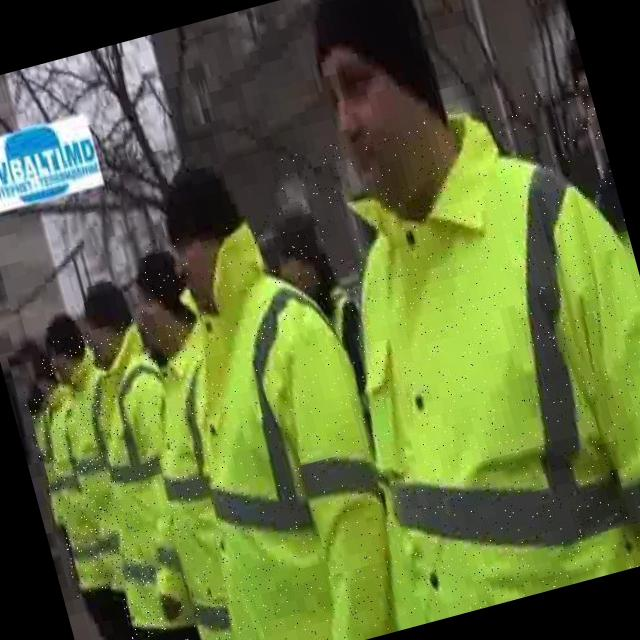safety_vest: (271, 74, 640, 630), (123, 199, 424, 640), (85, 303, 293, 640), (52, 313, 230, 640), (37, 344, 151, 590), (22, 379, 128, 599)
